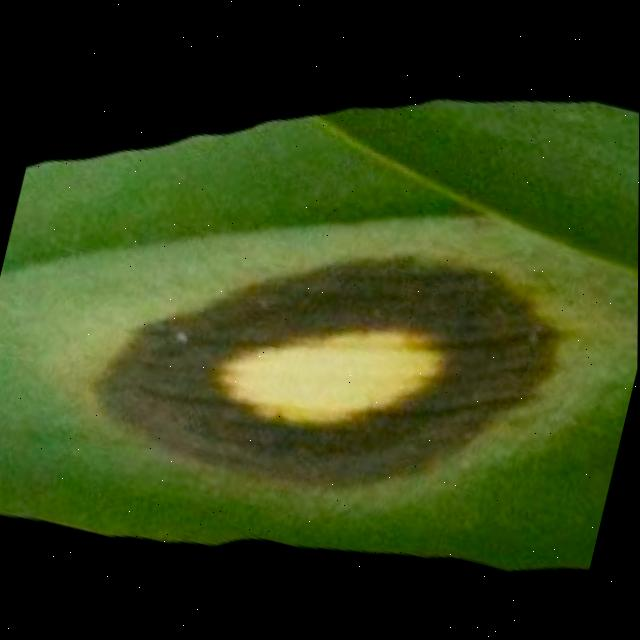mite: (0, 407, 593, 640), (134, 305, 204, 370), (170, 322, 195, 349)
sunburn: (73, 170, 587, 549)
